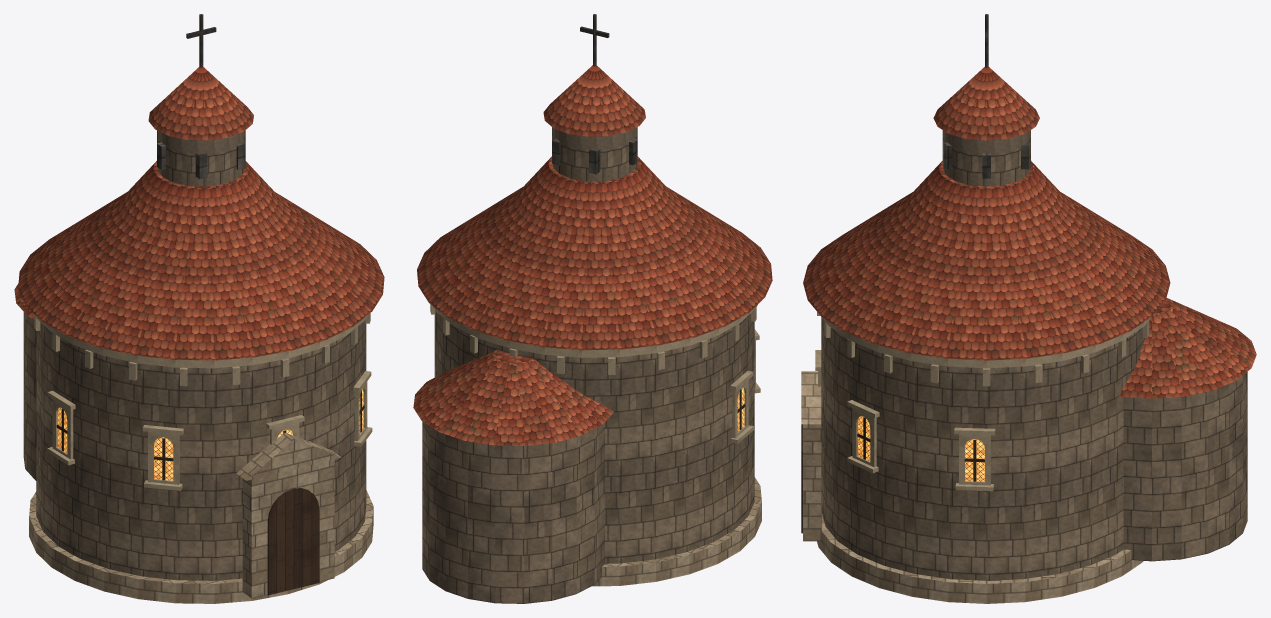
The model's file is rotunda.gltf.
3 renders of one model, left to right at view 1: azimuth 30°, elevation 25°; view 2: azimuth 150°, elevation 25°; view 3: azimuth 270°, elevation 25°, orthographic. The views are drawn at different scales.
Visible parts, largest first — view 1: rotunda_mesh; view 2: rotunda_mesh; view 3: rotunda_mesh.
Boxes of the visible parts, <box> form: rotunda_mesh: <box>14,14,384,603</box>; rotunda_mesh: <box>413,14,772,603</box>; rotunda_mesh: <box>801,14,1256,603</box>.
Size of what is drawn, in the model's own units: 10 by 15.5 by 12.4.
9 materials, 9 textured.
